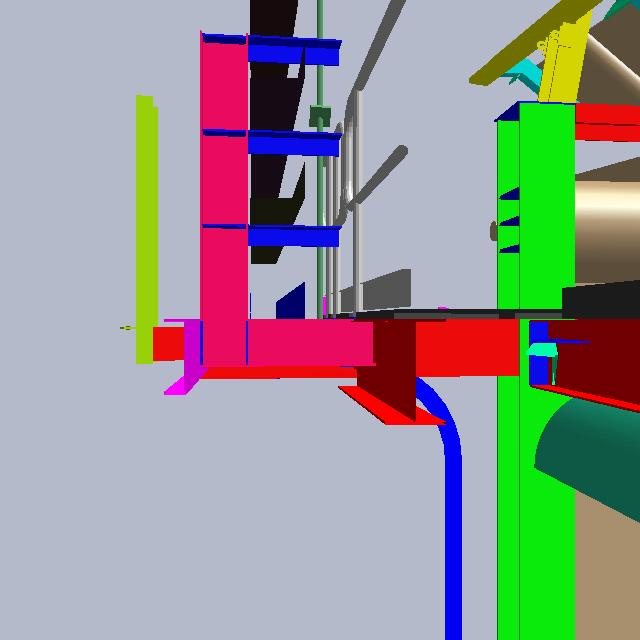Poste: (312, 1, 325, 335)
Soporte: (131, 94, 195, 372)
